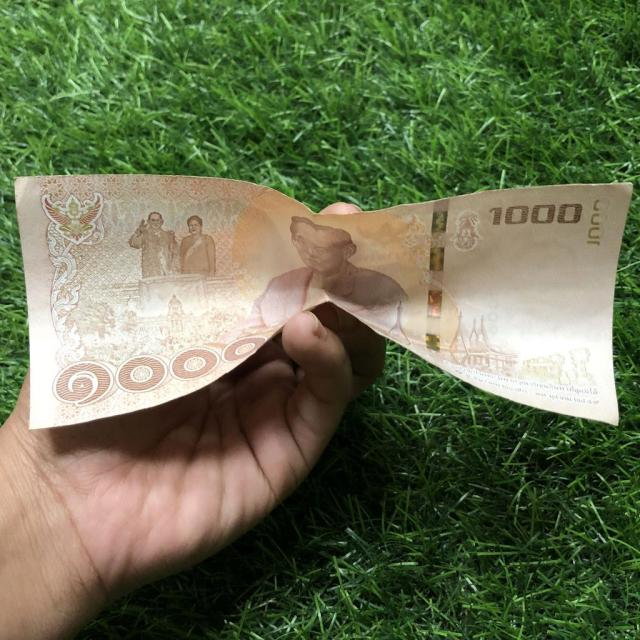THAI1000: (15, 175, 631, 428)
